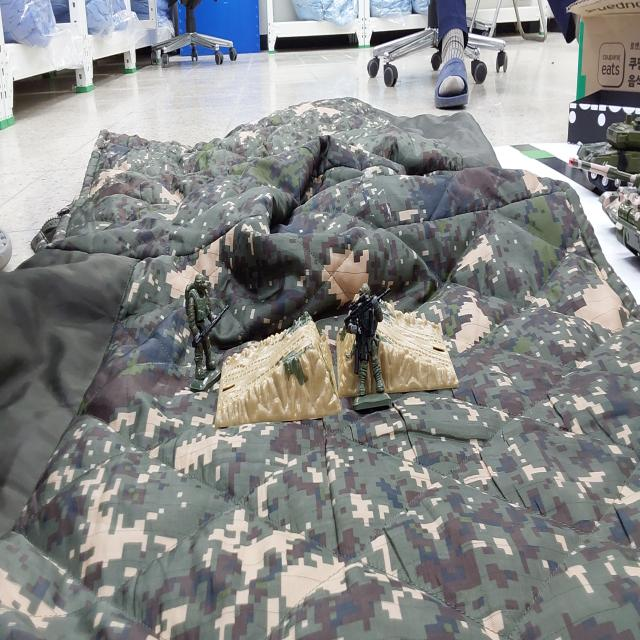enem: (344, 283, 392, 413), (185, 274, 229, 391)
